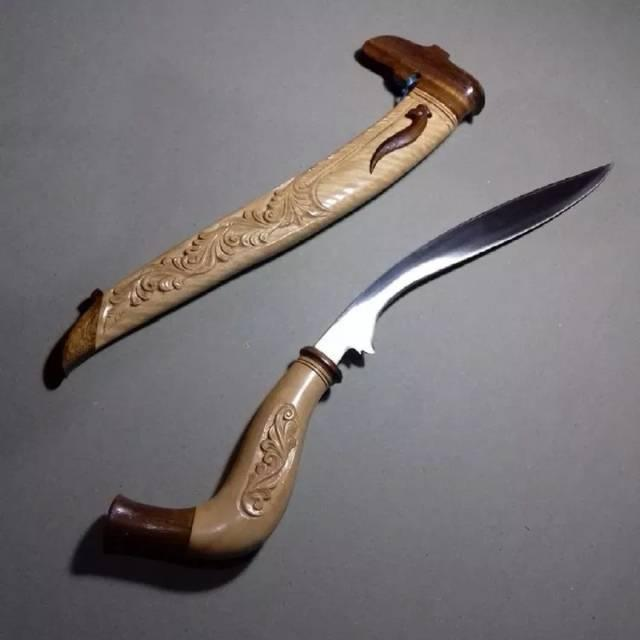facao: (71, 137, 640, 570), (31, 15, 487, 398)
